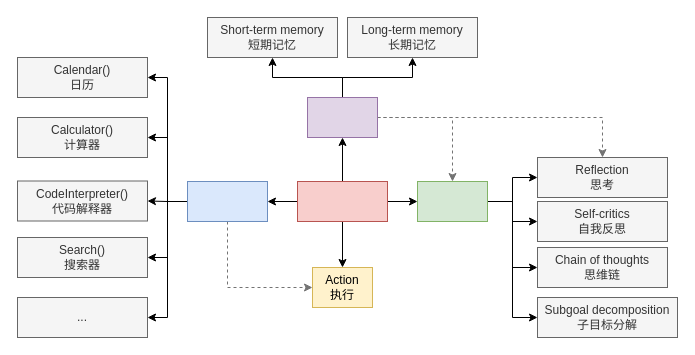
The diagram is 695 pixels wide and 355 high, and some of its shapes have lost their labels. Each missing label, with the centre of its shape:
"Agent 智能体" goes at (x=342, y=201).
"Memory 记忆" goes at (x=342, y=117).
"Planning 规划" goes at (x=452, y=201).
"Tools 工具" goes at (x=227, y=201).
